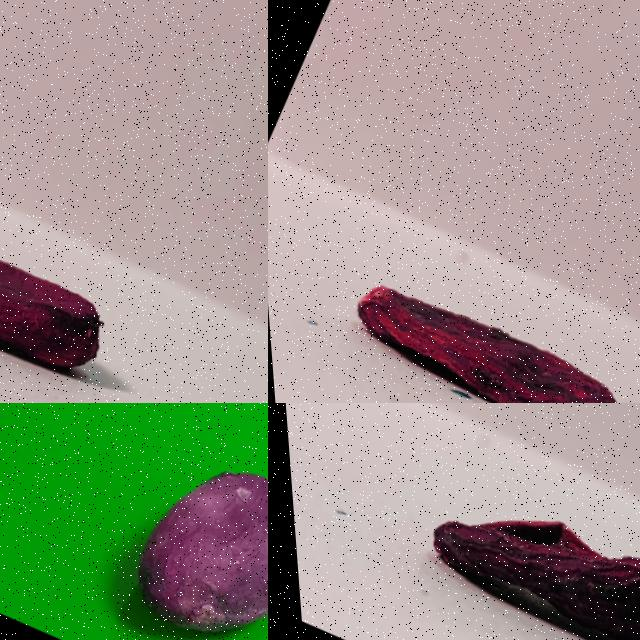Fine_cocoabeans: (19, 403, 267, 639)
Flat_cocoabeans: (275, 212, 639, 402), (359, 403, 639, 639), (0, 160, 158, 402)
